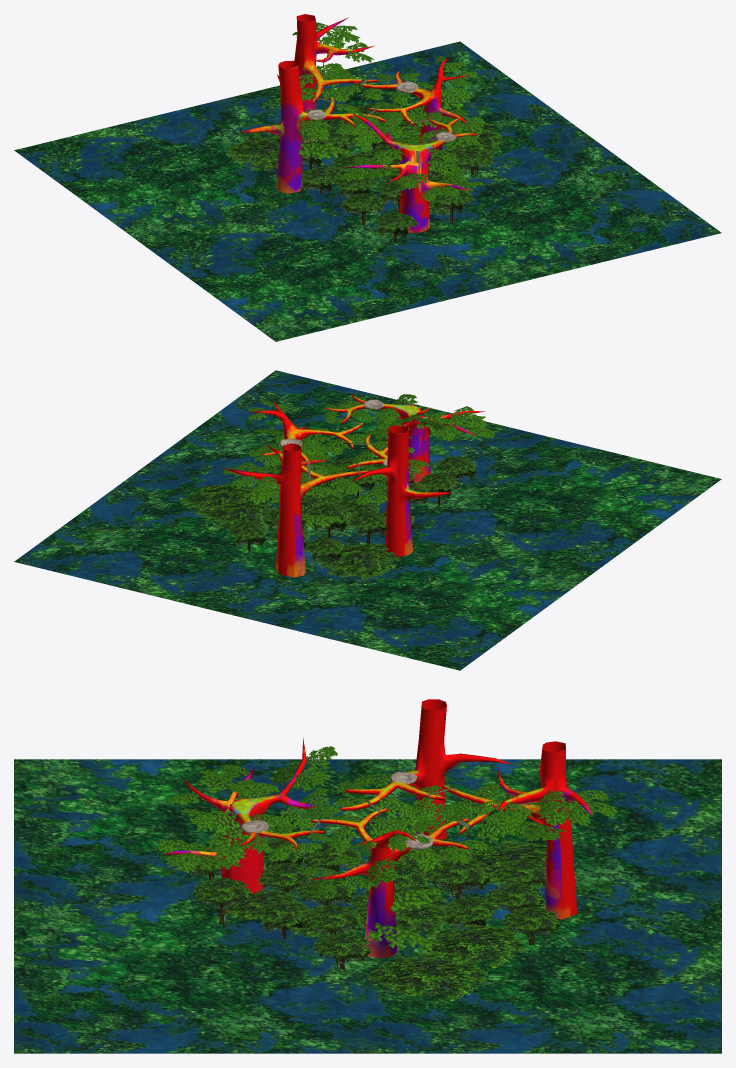
File: TallForestF1.dae
The picture shows the model from 3 angles, top to bottom: view 1: azimuth 30°, elevation 25°; view 2: azimuth 150°, elevation 25°; view 3: azimuth 270°, elevation 25°; orthographic projection. The views are drawn at different scales.
Visible parts, largest first — view 1: Circle; view 2: Circle; view 3: Circle.
Part boxes in pixels (x1=…): Circle: x1=14, y1=14, x2=721, y2=341; Circle: x1=14, y1=370, x2=721, y2=670; Circle: x1=14, y1=699, x2=721, y2=1053.
Bounding box in the file's own units: 350 × 356 × 98.86.
7 materials, 7 textured.
